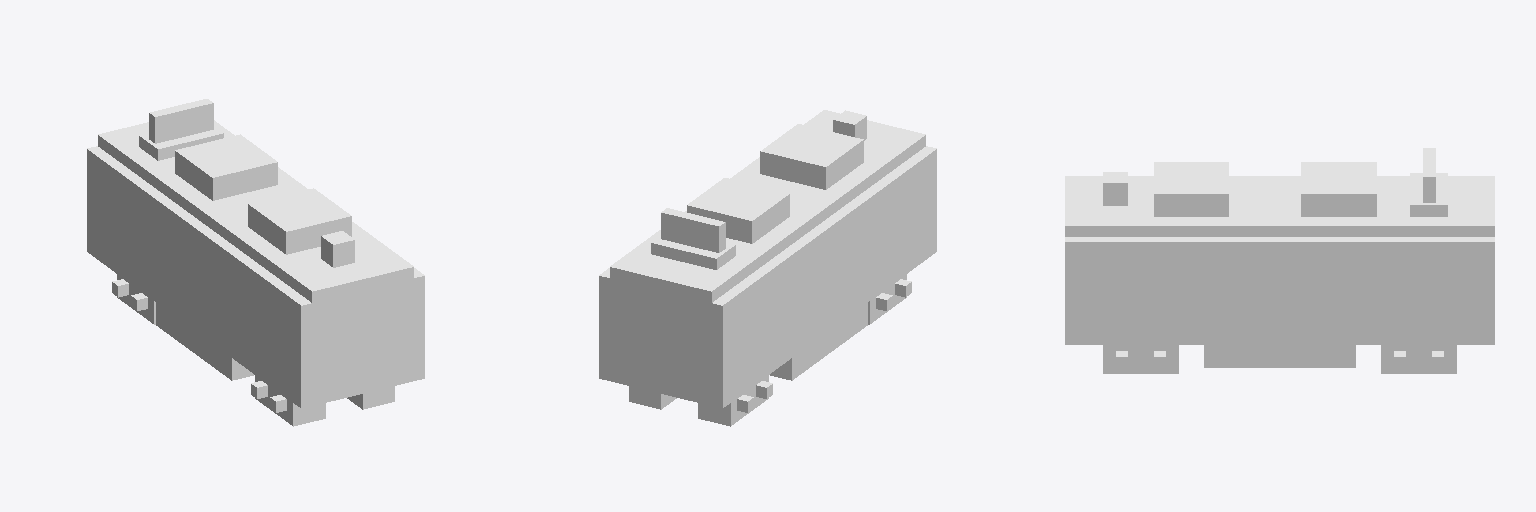
File: train2.obj
The picture shows the model from 3 angles: view 1: azimuth 30°, elevation 25°; view 2: azimuth 150°, elevation 25°; view 3: azimuth 270°, elevation 25°; orthographic projection.
Visible parts, largest first — view 1: object 1; view 2: object 1; view 3: object 1.
Boxes of the visible parts, x1=… form: object 1: x1=87, y1=99, x2=424, y2=426; object 1: x1=599, y1=110, x2=936, y2=426; object 1: x1=1065, y1=148, x2=1494, y2=373.
Bounding box in the file's own units: 3.4 × 4.9 × 10.2.